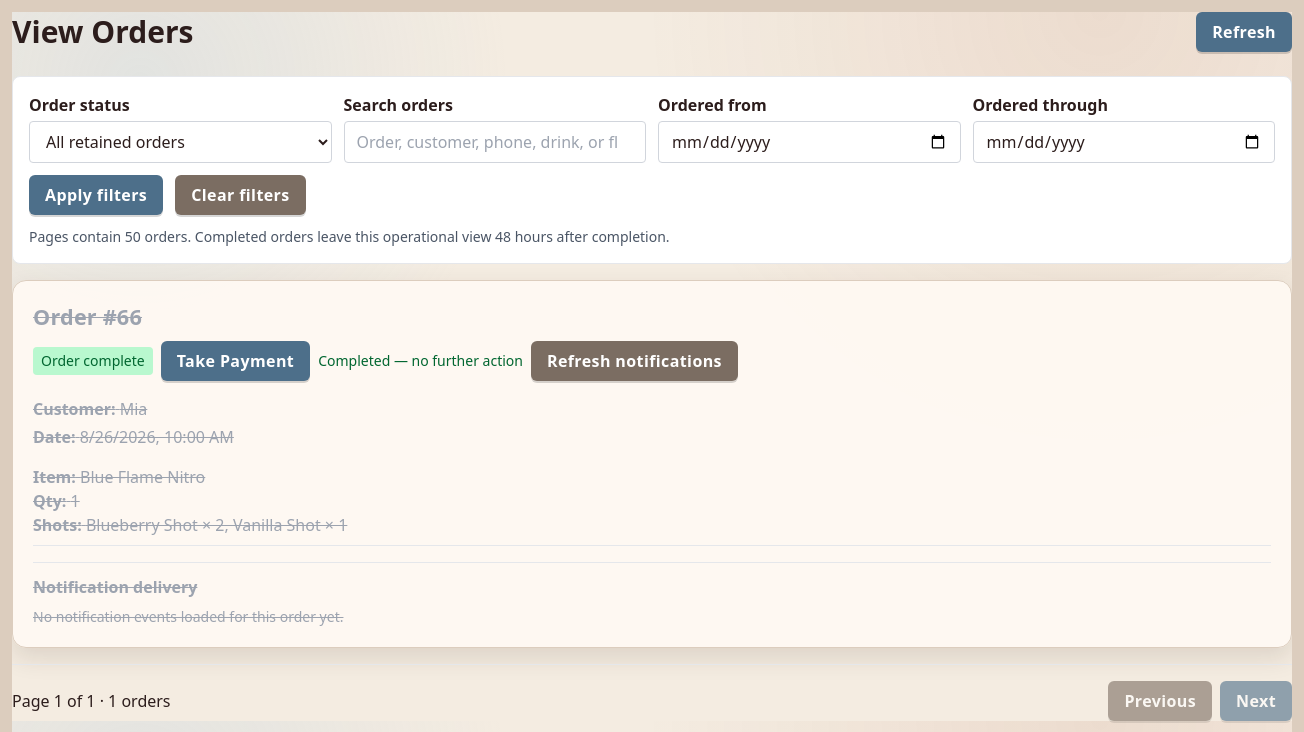
Scenario: ViewOrders › dismisses the chooser when its order is paid on refresh
Click the button "Refresh".
click(1244, 32)  # box [1196, 12, 1292, 52]
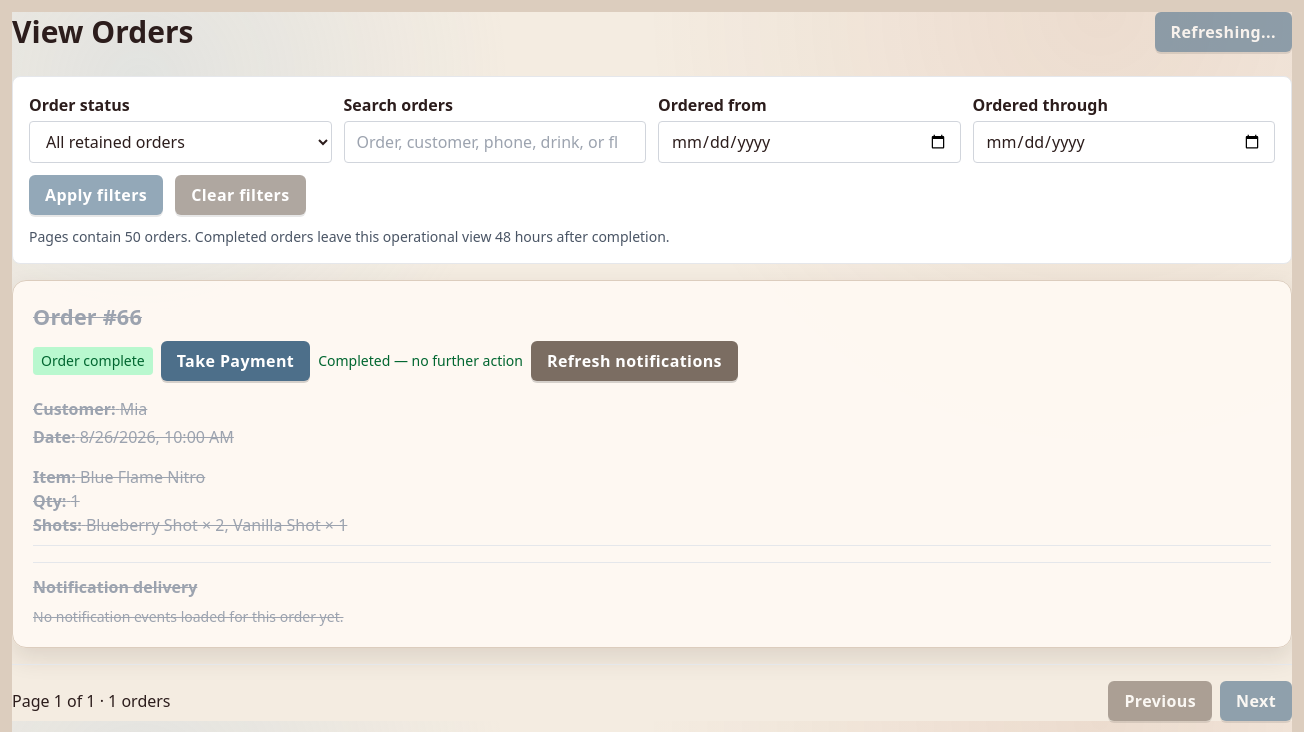
Click the button "Take Payment".
click(235, 361)  # box [161, 341, 310, 381]
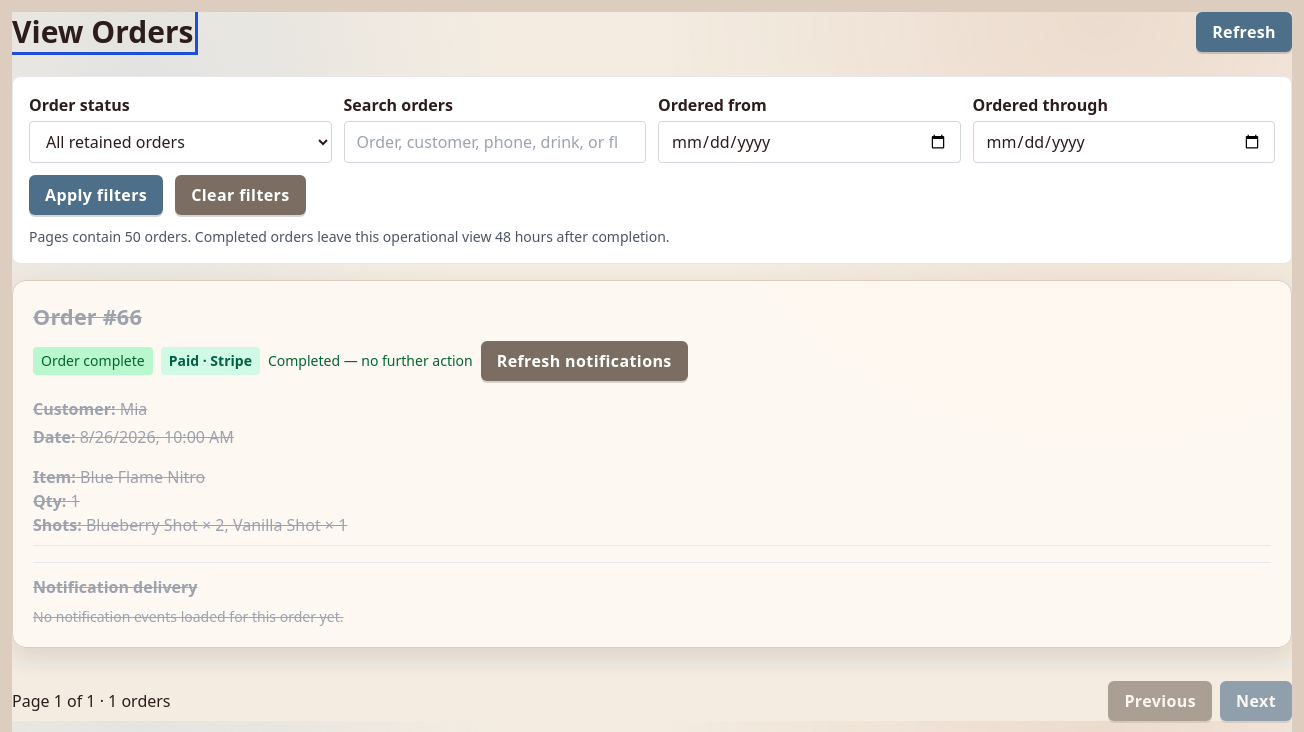
Click the button "Refresh".
click(1244, 32)  # box [1196, 12, 1292, 52]
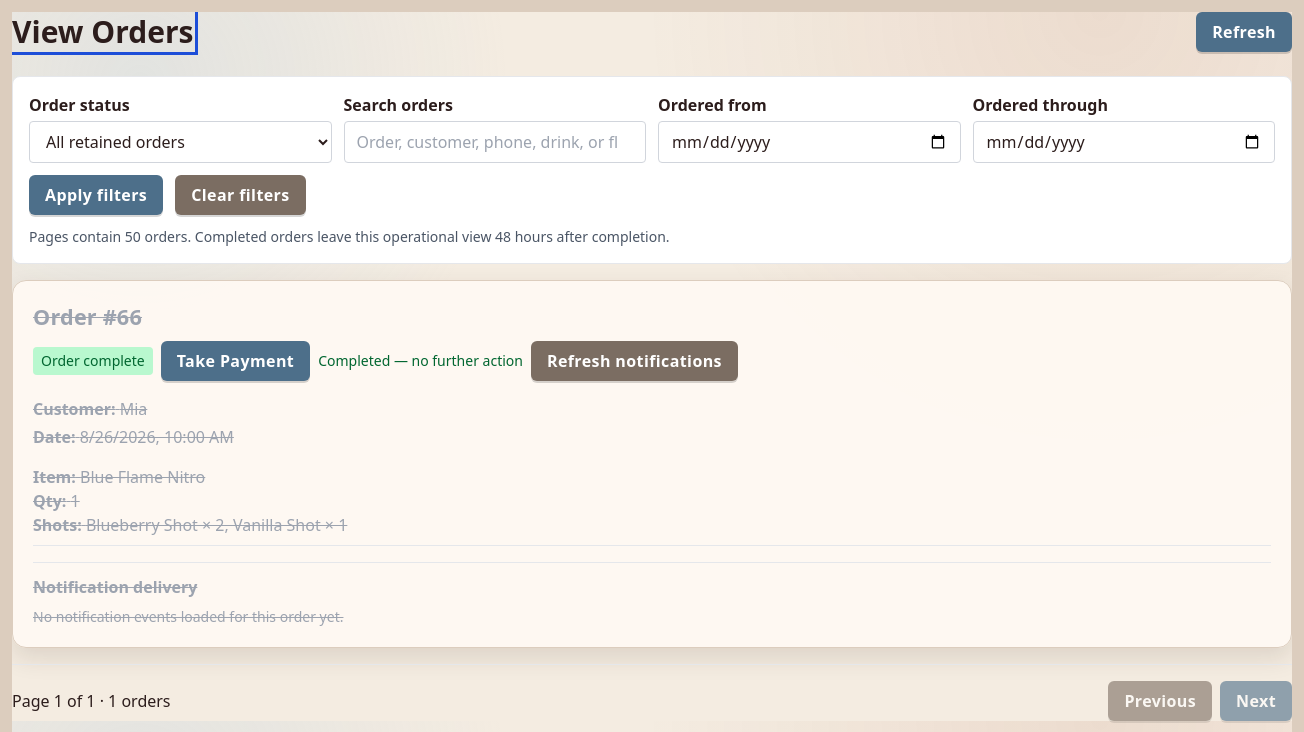
Expected: the button "Take Payment" is shown, [161, 341, 310, 381]
